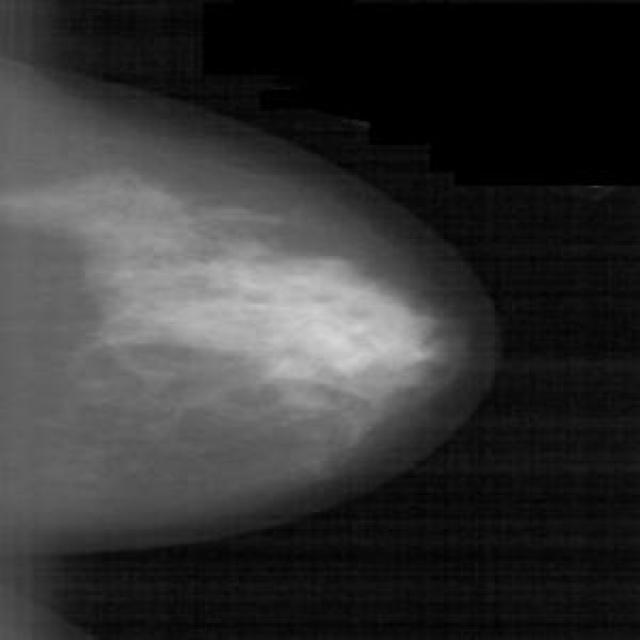tumor: (80, 252, 449, 420)
